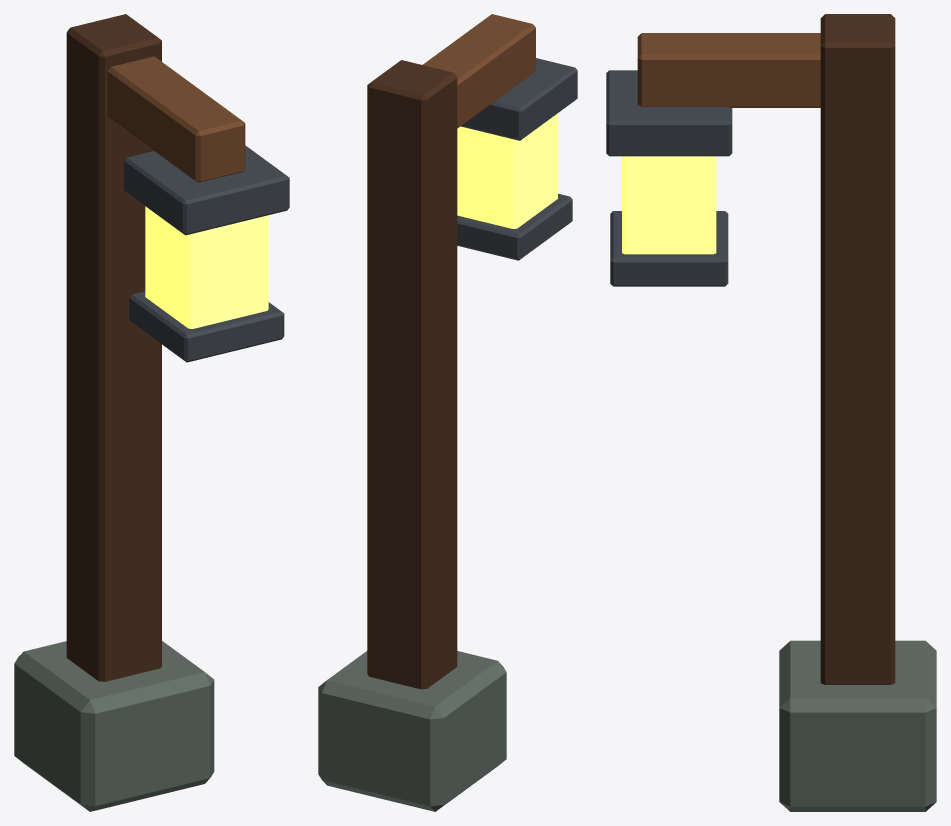
The model's file is EM_LanternPost.glb.
3 renders of one model, left to right at view 1: azimuth 30°, elevation 25°; view 2: azimuth 150°, elevation 25°; view 3: azimuth 270°, elevation 25°, orthographic. The views are drawn at different scales.
Visible parts, largest first — view 1: EM_LanternPost__TimberDark, EM_LanternPost__StoneBase, EM_LanternPost__IronMetal, EM_LanternPost__WarmGlow, EM_LanternPost__Timber; view 2: EM_LanternPost__TimberDark, EM_LanternPost__StoneBase, EM_LanternPost__WarmGlow, EM_LanternPost__IronMetal, EM_LanternPost__Timber; view 3: EM_LanternPost__TimberDark, EM_LanternPost__StoneBase, EM_LanternPost__Timber, EM_LanternPost__IronMetal, EM_LanternPost__WarmGlow.
Part boxes in pixels (x1,y1,x2,y2): EM_LanternPost__TimberDark: [66, 14, 161, 681]; EM_LanternPost__StoneBase: [14, 641, 214, 811]; EM_LanternPost__IronMetal: [124, 145, 289, 362]; EM_LanternPost__WarmGlow: [145, 206, 268, 328]; EM_LanternPost__Timber: [107, 56, 245, 182]; EM_LanternPost__TimberDark: [367, 60, 457, 689]; EM_LanternPost__StoneBase: [318, 651, 506, 811]; EM_LanternPost__WarmGlow: [457, 113, 557, 228]; EM_LanternPost__IronMetal: [457, 58, 577, 260]; EM_LanternPost__Timber: [423, 14, 535, 128]; EM_LanternPost__TimberDark: [820, 14, 895, 684]; EM_LanternPost__StoneBase: [779, 640, 936, 811]; EM_LanternPost__Timber: [637, 33, 820, 107]; EM_LanternPost__IronMetal: [606, 70, 732, 286]; EM_LanternPost__WarmGlow: [622, 156, 716, 254].
Bounding box in the file's own units: 2 × 10.6 × 4.2.
